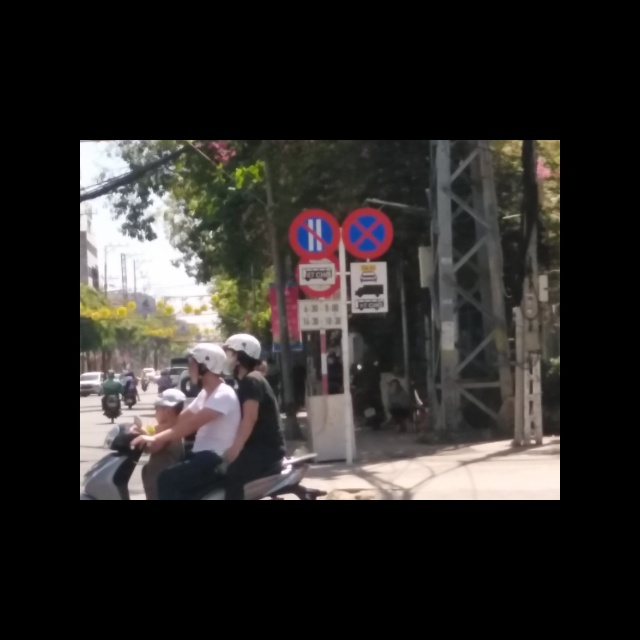Cấm dừng xe và đỗ xe: (341, 207, 395, 260)
Cấm đỗ xe ngày chẵn: (288, 208, 340, 260)
